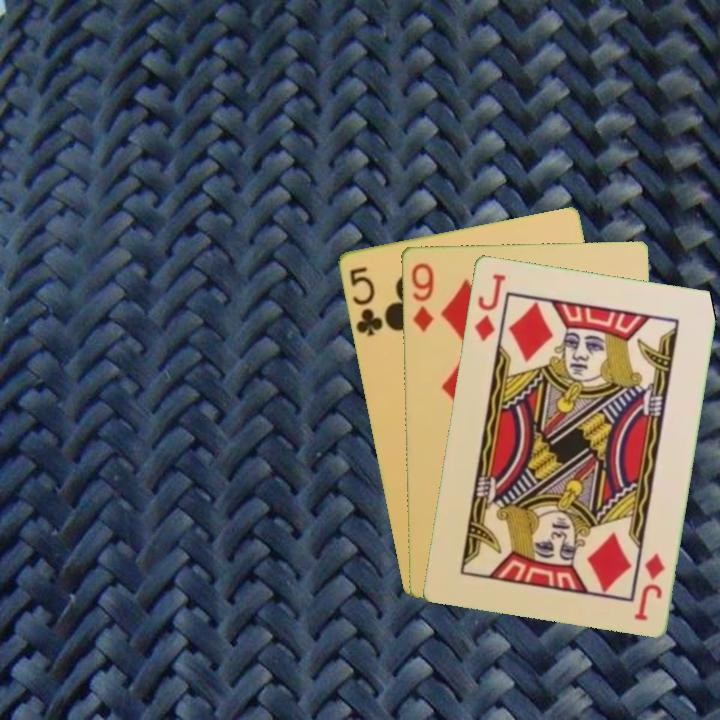5c: (345, 263, 385, 339)
9d: (407, 259, 437, 334)
Jd: (470, 269, 508, 344), (630, 549, 668, 623)
